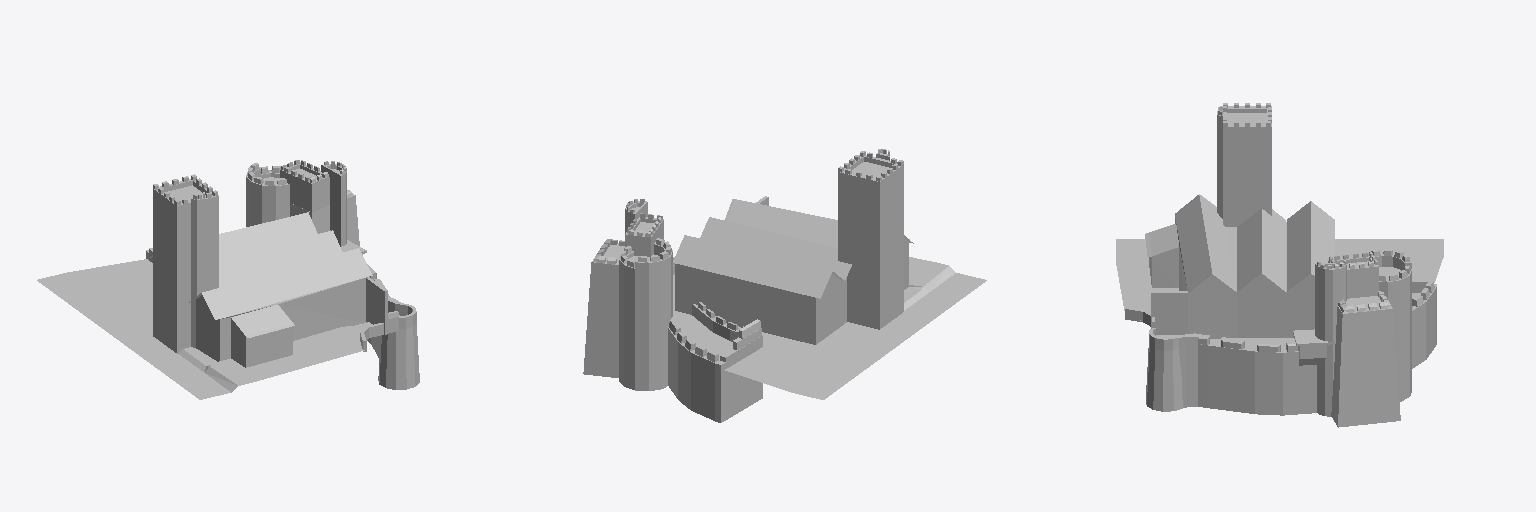
File: castle2.obj
3 views of the same model, side by side, from view 1: azimuth 30°, elevation 25°; view 2: azimuth 150°, elevation 25°; view 3: azimuth 270°, elevation 25° (orthographic).
Visible parts, largest first — view 1: Cube.010; view 2: Cube.010; view 3: Cube.010.
Part boxes in pixels (x1,y1,x2,y2): Cube.010: (37,160,419,399); Cube.010: (583,149,986,422); Cube.010: (1116,103,1443,427).
Size of the model in its own units: 39.22 by 28.52 by 40.54.